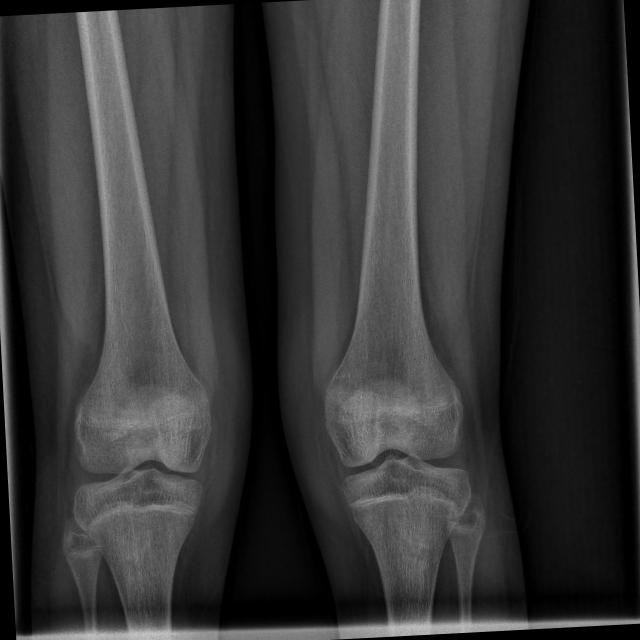Knee: (324, 384, 477, 538), (68, 406, 222, 558)
